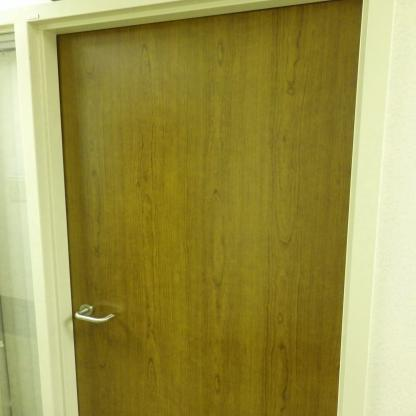door: (55, 3, 353, 415)
lever: (74, 301, 116, 328)
